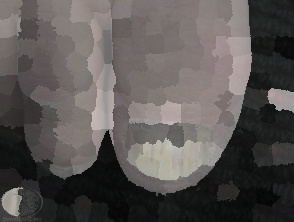Nail_psoriasis: (118, 107, 223, 201), (25, 148, 101, 187)
